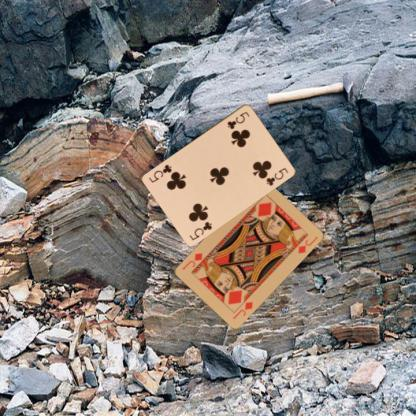5c: (187, 219, 213, 241), (225, 109, 251, 130)
Jd: (231, 299, 254, 320)
